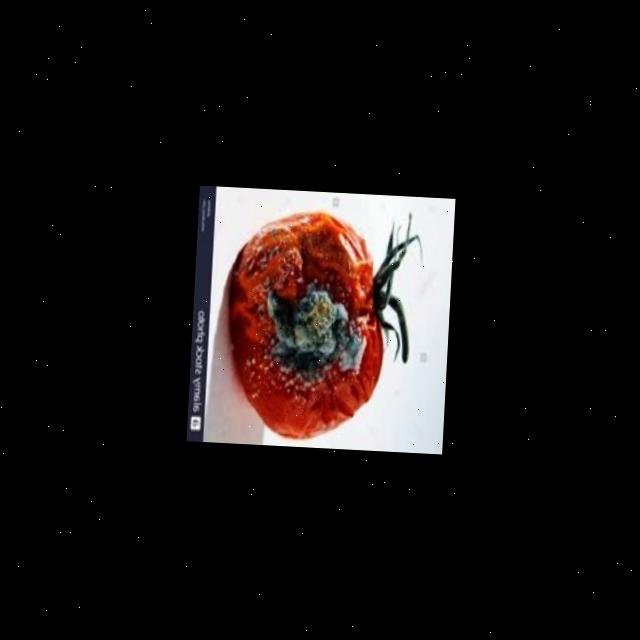tomato: (215, 208, 419, 450)
